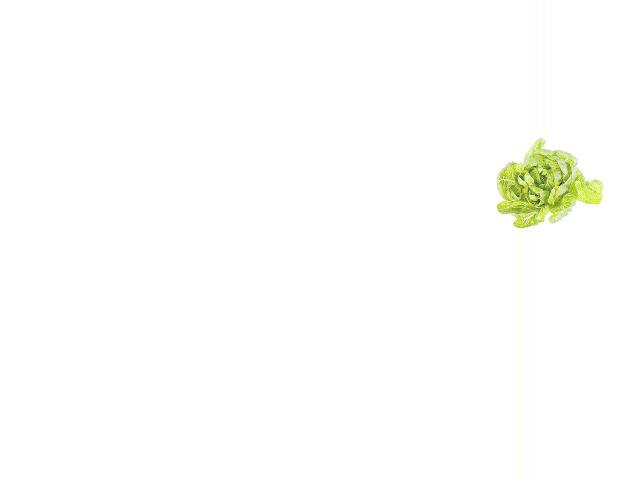lettuce: (495, 138, 606, 225)
